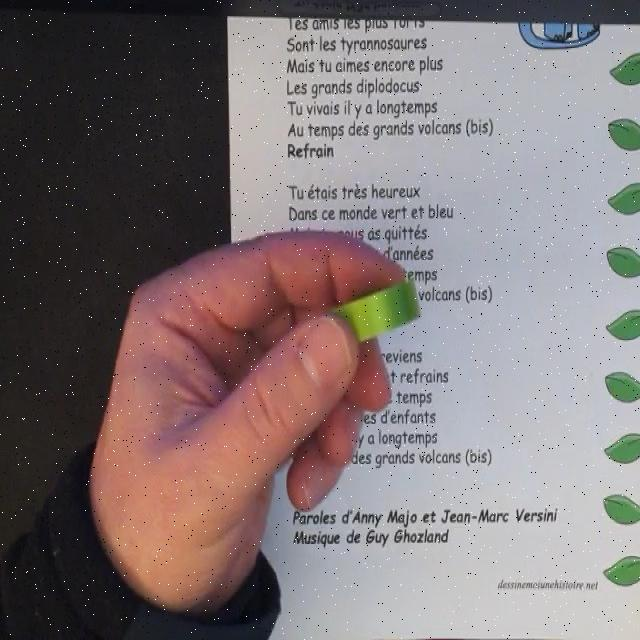round: (314, 279, 422, 349)
